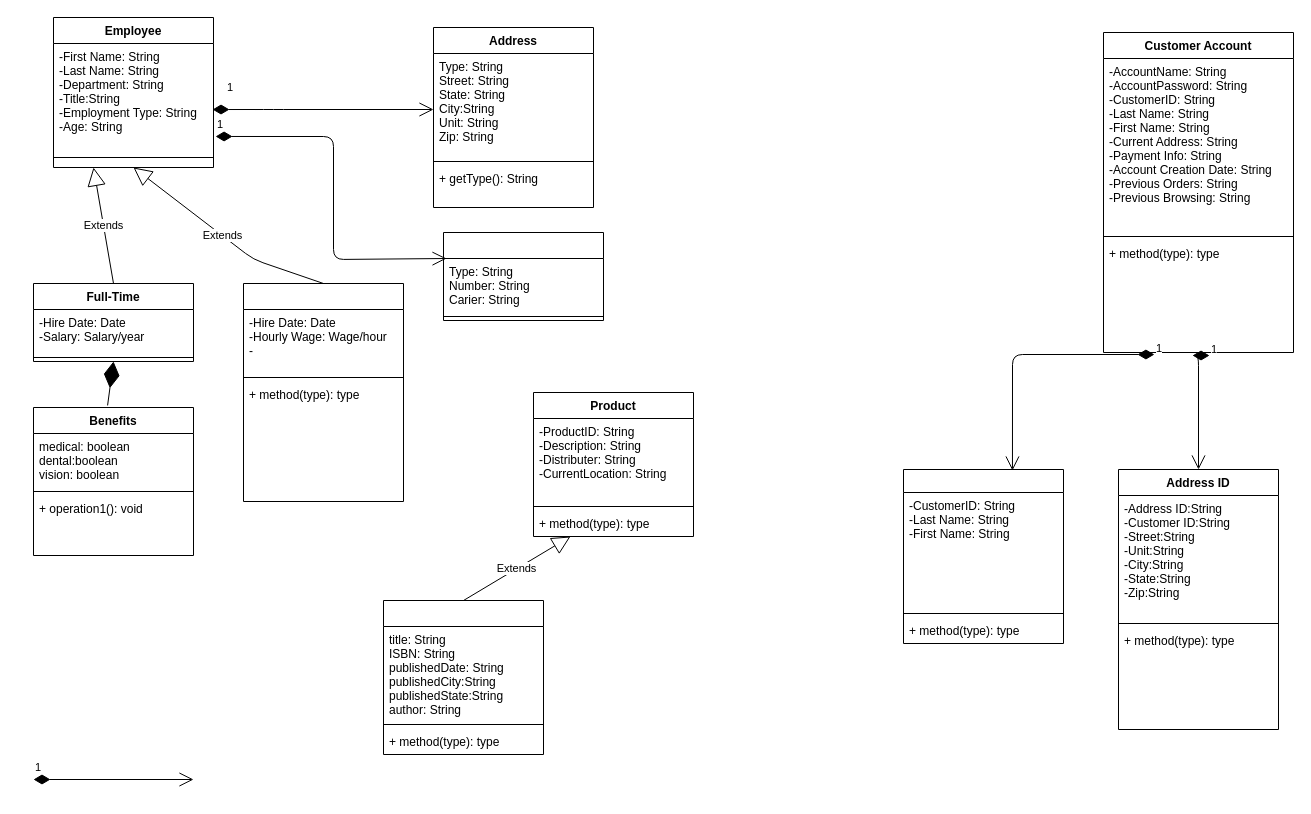
The diagram is 1311 pixels wide and 814 high, and some of its shapes have lost their labels. Each missing label, with the box of its shape:
Book: (382, 600, 544, 754)
Contractor: (242, 282, 404, 502)
Customer Table: (902, 468, 1064, 644)
Phone: (442, 232, 604, 320)
